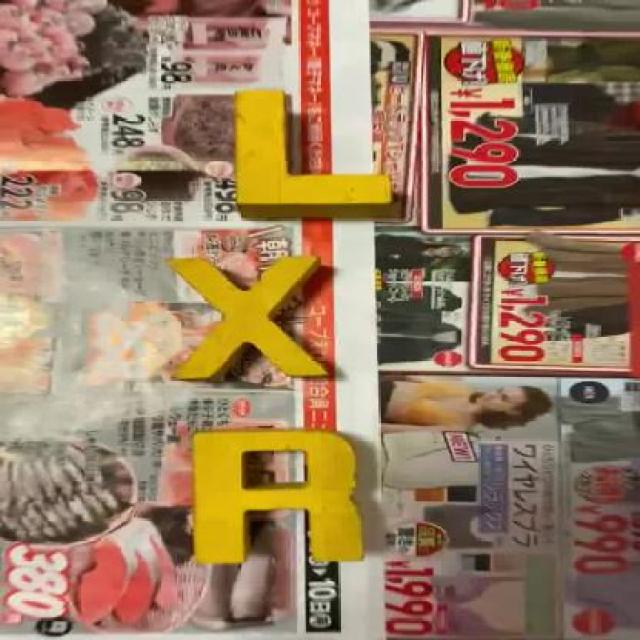L: (229, 93, 402, 218)
R: (194, 430, 368, 568)
X: (172, 259, 326, 384)
